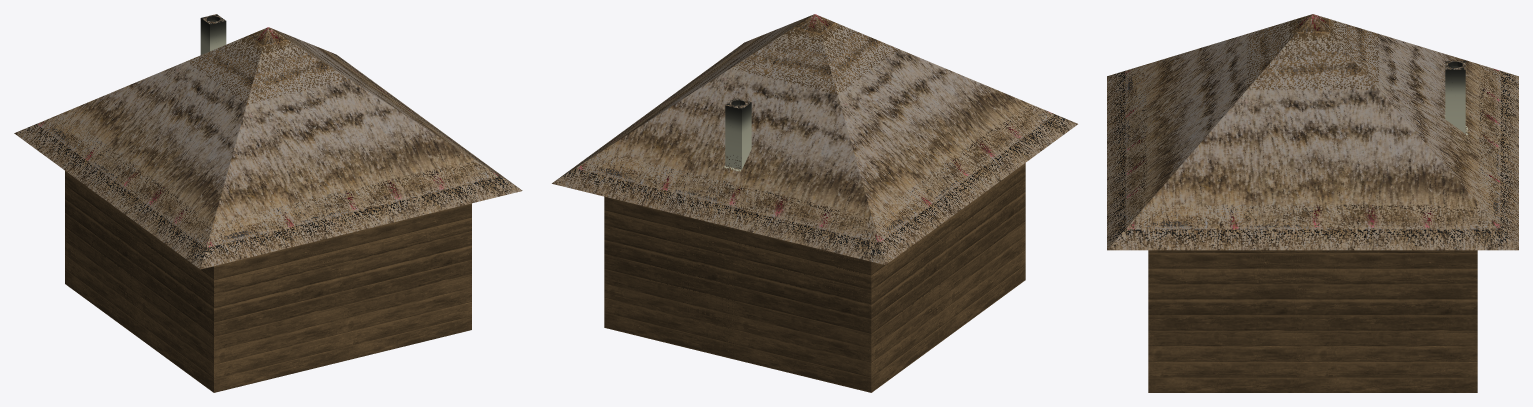
File: sm_PeasantHut_5m-sq_LogWithThatchedRoof.fbx
3 renders of one model, left to right at view 1: azimuth 30°, elevation 25°; view 2: azimuth 150°, elevation 25°; view 3: azimuth 270°, elevation 25°, orthographic. The views are drawn at different scales.
Visible parts, largest first — view 1: SM_PeasantHut_5m-sq_LOD-A; view 2: SM_PeasantHut_5m-sq_LOD-A; view 3: SM_PeasantHut_5m-sq_LOD-A.
Part boxes in pixels (x1,y1,x2,y2): SM_PeasantHut_5m-sq_LOD-A: [14, 14, 522, 392]; SM_PeasantHut_5m-sq_LOD-A: [552, 14, 1077, 392]; SM_PeasantHut_5m-sq_LOD-A: [1107, 14, 1518, 392].
Size of the model in its own units: 500 by 415 by 500.
